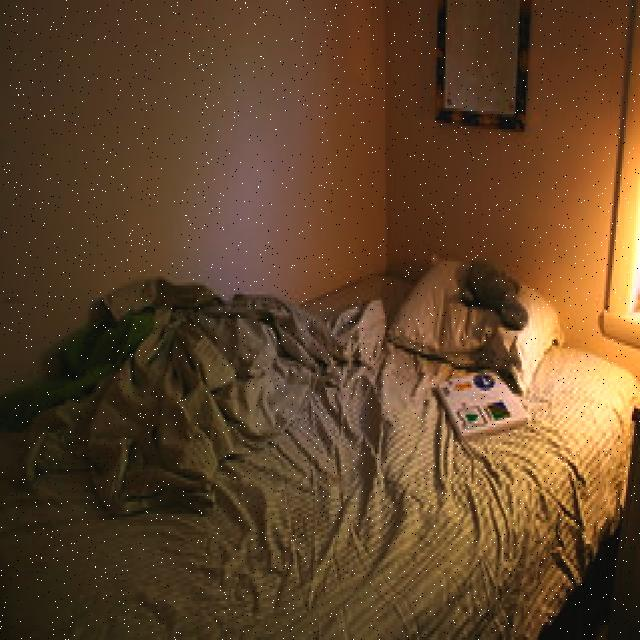bed: (10, 225, 640, 640)
